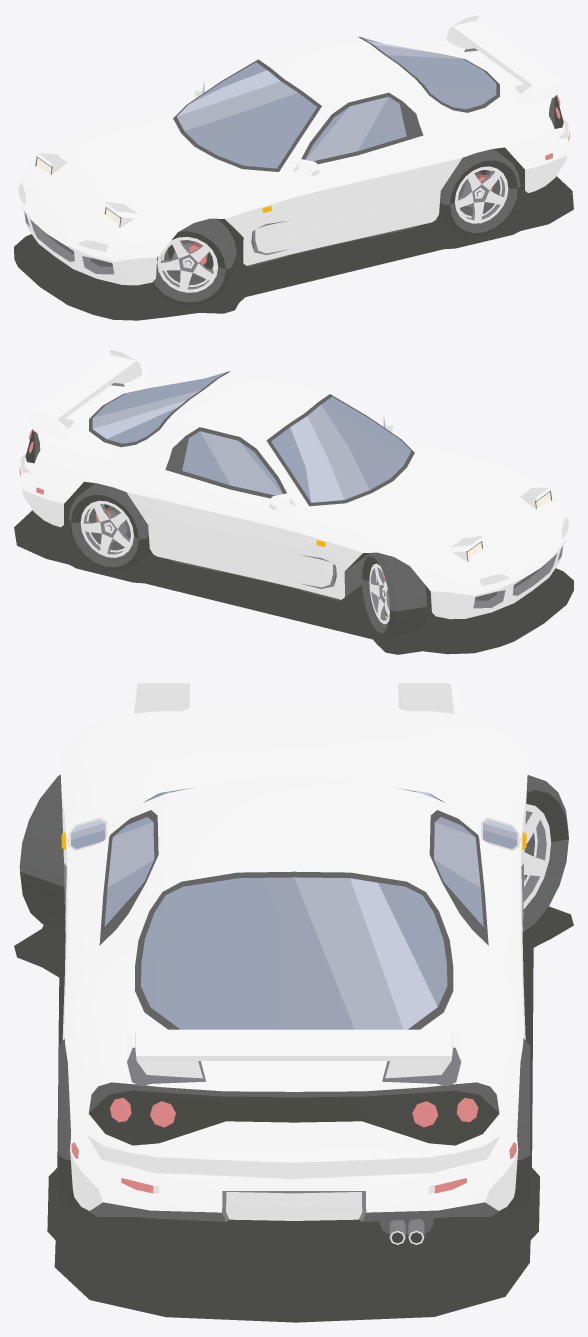
File: mazda_rx7_stylised.glb
3 renders of one model, top to bottom at view 1: azimuth 30°, elevation 25°; view 2: azimuth 150°, elevation 25°; view 3: azimuth 270°, elevation 25°, orthographic. The views are drawn at different scales.
Visible parts, largest first — view 1: Low Poly Rx7_02 - Default_0, Low Poly Rx7_Material #9_0, Floor, Low Poly Rx7_Material #3_0, Low Poly Rx7_Material #6_0, Low Poly Rx7_Material #4_0, Low Poly Rx7_Material #7_0, Low Poly Rx7_Material #8_0, Low Poly Rx7_Material #5_0; view 2: Low Poly Rx7_02 - Default_0, Low Poly Rx7_Material #9_0, Floor, Low Poly Rx7_Material #6_0, Low Poly Rx7_Material #3_0, Low Poly Rx7_Material #4_0, Low Poly Rx7_Material #7_0, Low Poly Rx7_Material #5_0, Low Poly Rx7_Material #8_0; view 3: Low Poly Rx7_02 - Default_0, Floor, Low Poly Rx7_Material #3_0, Low Poly Rx7_Material #9_0, Low Poly Rx7_Material #6_0, Low Poly Rx7_Material #7_0, Low Poly Rx7_Material #4_0, Low Poly Rx7_Material #5_0, Low Poly Rx7_Material #8_0, Low Poly Rx7_Material #17_0, Low Poly Rx7_Material #1_0.
Boxes of the visible parts, x1=… form: Low Poly Rx7_02 - Default_0: x1=17, y1=14, x2=570, y2=265; Low Poly Rx7_Material #9_0: x1=18, y1=15, x2=568, y2=292; Floor: x1=14, y1=176, x2=573, y2=320; Low Poly Rx7_Material #3_0: x1=184, y1=37, x2=496, y2=168; Low Poly Rx7_Material #6_0: x1=42, y1=36, x2=520, y2=302; Low Poly Rx7_Material #4_0: x1=176, y1=44, x2=461, y2=161; Low Poly Rx7_Material #7_0: x1=150, y1=95, x2=563, y2=305; Low Poly Rx7_Material #8_0: x1=24, y1=48, x2=505, y2=289; Low Poly Rx7_Material #5_0: x1=177, y1=41, x2=437, y2=116; Low Poly Rx7_02 - Default_0: x1=18, y1=349, x2=569, y2=599; Low Poly Rx7_Material #9_0: x1=20, y1=349, x2=568, y2=624; Floor: x1=14, y1=510, x2=573, y2=654; Low Poly Rx7_Material #6_0: x1=68, y1=371, x2=544, y2=633; Low Poly Rx7_Material #3_0: x1=93, y1=372, x2=411, y2=502; Low Poly Rx7_Material #4_0: x1=92, y1=390, x2=385, y2=499; Low Poly Rx7_Material #7_0: x1=25, y1=429, x2=430, y2=637; Low Poly Rx7_Material #5_0: x1=93, y1=400, x2=385, y2=502; Low Poly Rx7_Material #8_0: x1=83, y1=383, x2=562, y2=620; Low Poly Rx7_02 - Default_0: x1=60, y1=683, x2=527, y2=1212; Floor: x1=14, y1=906, x2=573, y2=1322; Low Poly Rx7_Material #3_0: x1=71, y1=787, x2=517, y2=1029; Low Poly Rx7_Material #9_0: x1=61, y1=683, x2=551, y2=1244; Low Poly Rx7_Material #6_0: x1=19, y1=774, x2=568, y2=1234; Low Poly Rx7_Material #7_0: x1=20, y1=790, x2=568, y2=1243; Low Poly Rx7_Material #4_0: x1=71, y1=822, x2=517, y2=1029; Low Poly Rx7_Material #5_0: x1=71, y1=788, x2=516, y2=1029; Low Poly Rx7_Material #8_0: x1=64, y1=811, x2=546, y2=1237; Low Poly Rx7_Material #17_0: x1=88, y1=1082, x2=499, y2=1113; Low Poly Rx7_Material #1_0: x1=71, y1=1098, x2=516, y2=1193.
Bounding box in the file's own units: 586 × 173 × 287.
